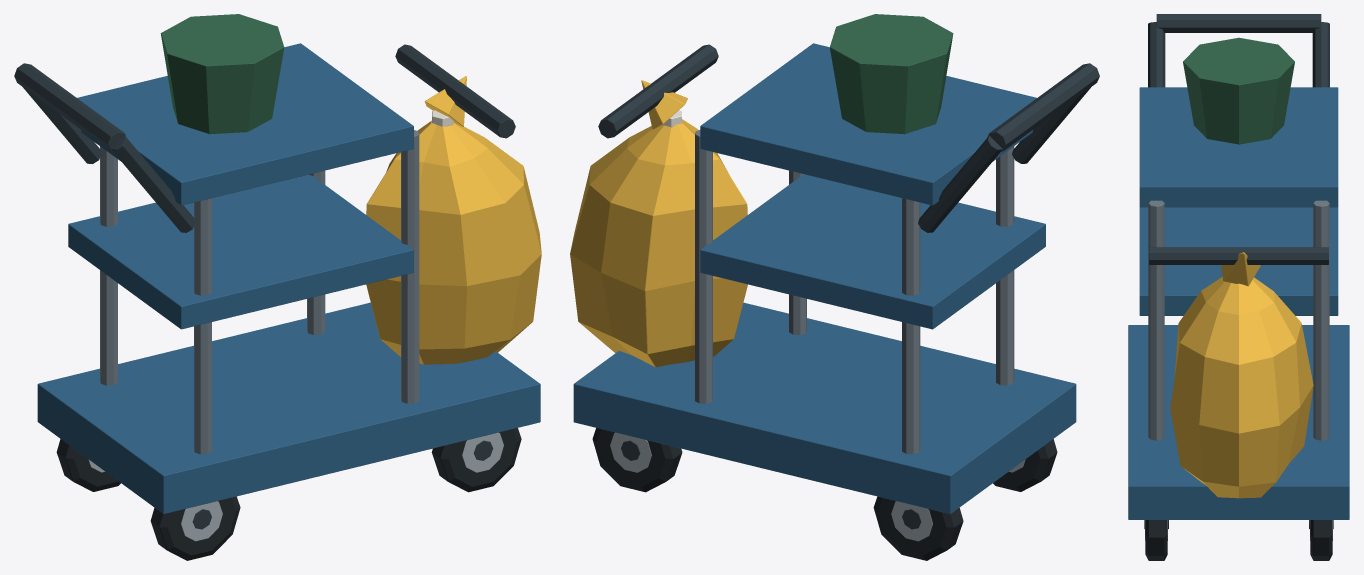
File: b04_outdoor_janitor_pushcart.glb
3 renders of one model, left to right at view 1: azimuth 30°, elevation 25°; view 2: azimuth 150°, elevation 25°; view 3: azimuth 270°, elevation 25°, orthographic. The views are drawn at different scales.
Parts seen in each view (by area): view 1: b04_outdoor_janitor_pushcart; view 2: b04_outdoor_janitor_pushcart; view 3: b04_outdoor_janitor_pushcart.
Part boxes in pixels (bbox=[...]): b04_outdoor_janitor_pushcart: bbox=[14, 14, 541, 560]; b04_outdoor_janitor_pushcart: bbox=[570, 14, 1099, 560]; b04_outdoor_janitor_pushcart: bbox=[1128, 14, 1349, 560].
Size of the model in its own units: 1.29 by 1.19 by 0.59.
